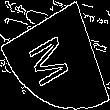M_NE: (30, 23, 80, 87)
